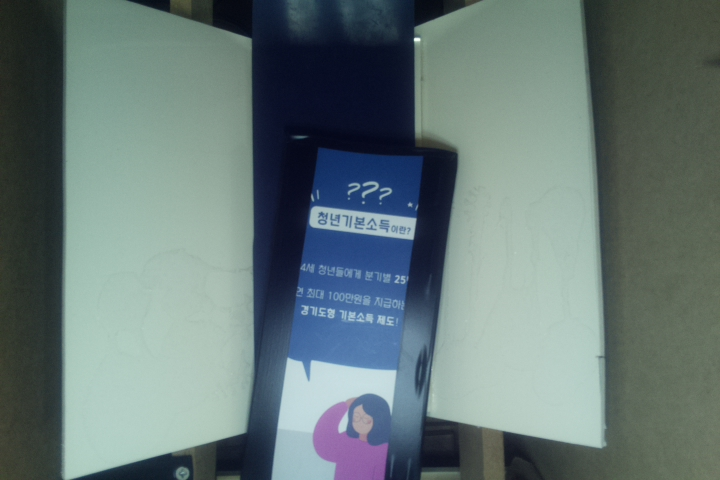book: (241, 131, 459, 480)
